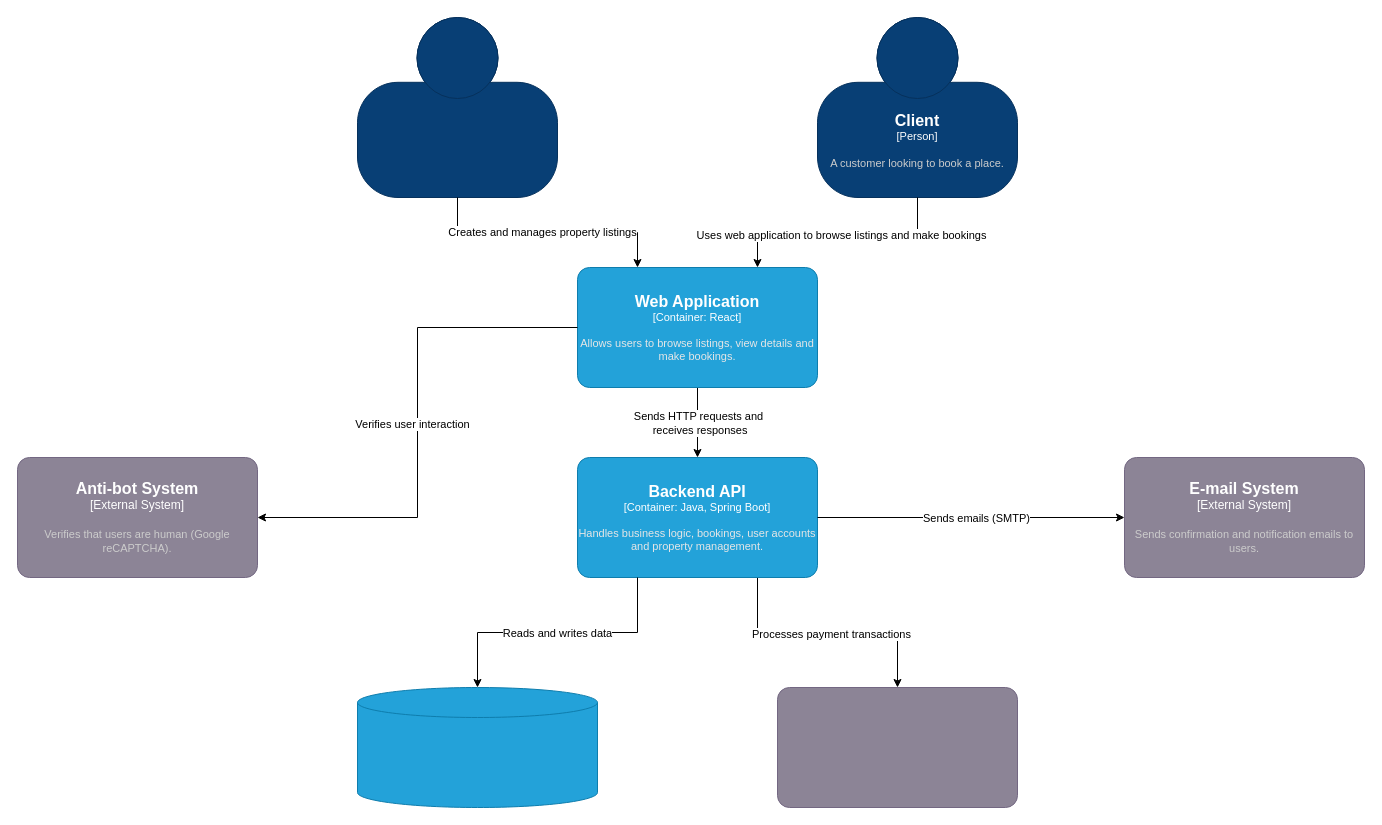
Image size: 1382x825. Some labels were removed from this diagram. Here are the shapes that lost their labels. From the top down, the centre of each, then its label:
At point 457,107: "Listing author [Person] A property owner who lists places for rent.".
At point 477,747: "Database [Container: MySQL] Stores users, properties, bookings and reviews.".
At point 897,747: "Payment System [External System] Processes payments for bookings.".
